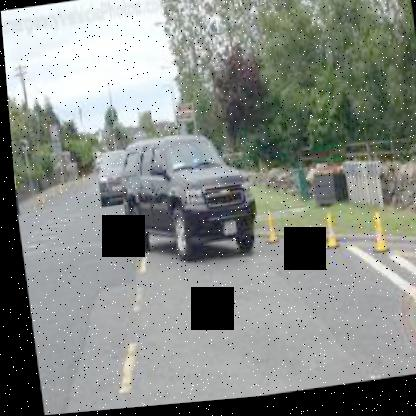not_emergency: (105, 119, 260, 279), (86, 140, 137, 217)
